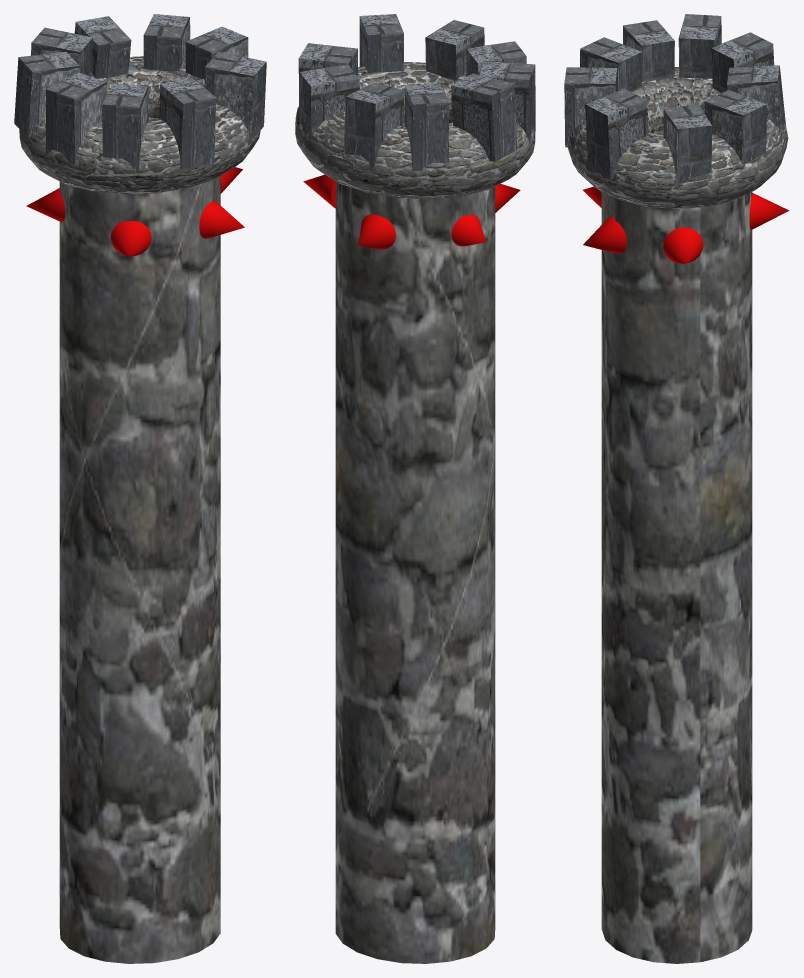
The model's file is CastlePillar4.fbx.
The picture shows the model from 3 angles, left to right: view 1: azimuth 30°, elevation 25°; view 2: azimuth 150°, elevation 25°; view 3: azimuth 270°, elevation 25°; orthographic projection.
Visible parts, largest first — view 1: piller; view 2: piller; view 3: piller.
Boxes of the visible parts, x1,y1,x2,y2 form: piller: [14, 14, 266, 963]; piller: [295, 14, 535, 963]; piller: [564, 14, 789, 963].
Bounding box in the file's own units: 12.21 × 47.45 × 11.18.
